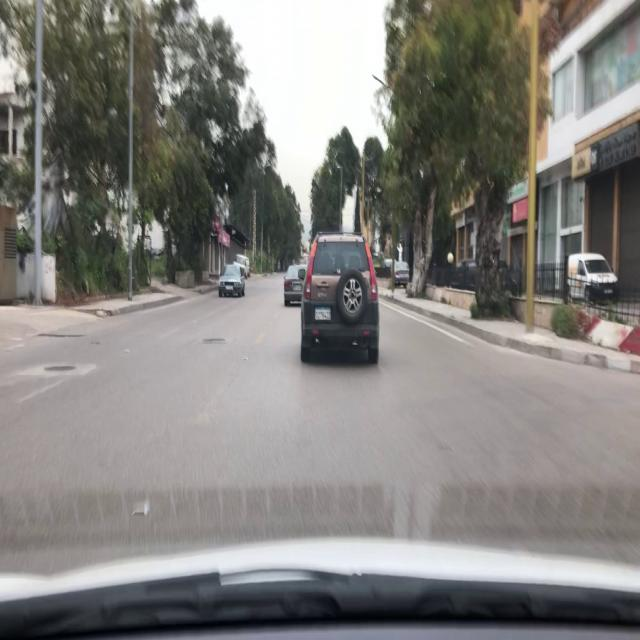Pothole: (197, 336, 231, 347)
